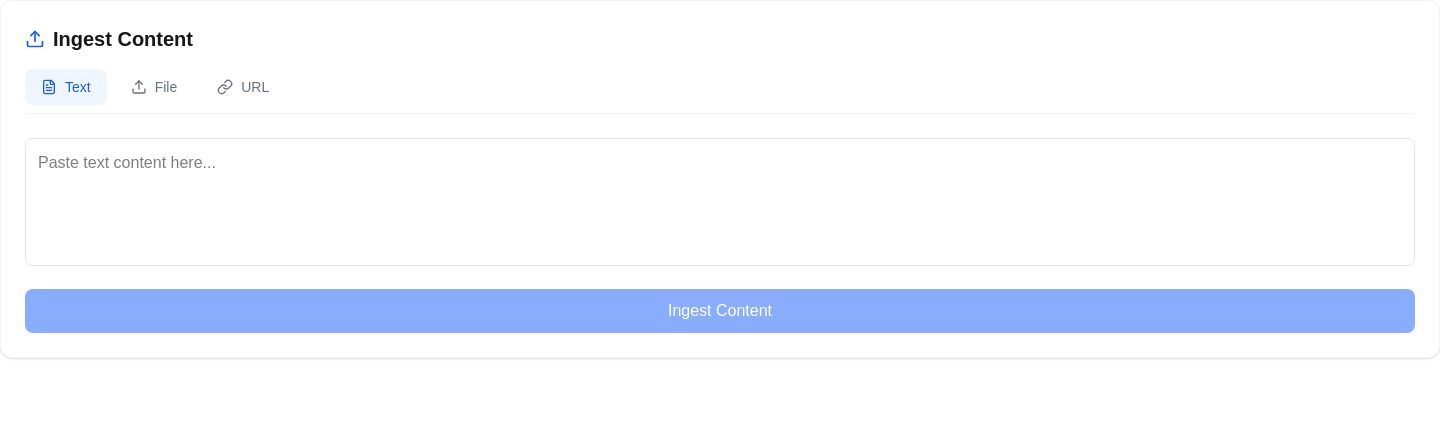
Scenario: IngestForm › submits text ingestion successfully
Type "Test content" into the text box with placeholder "Paste text content here...". click: point(720, 202)
box: [25, 138, 1415, 266]
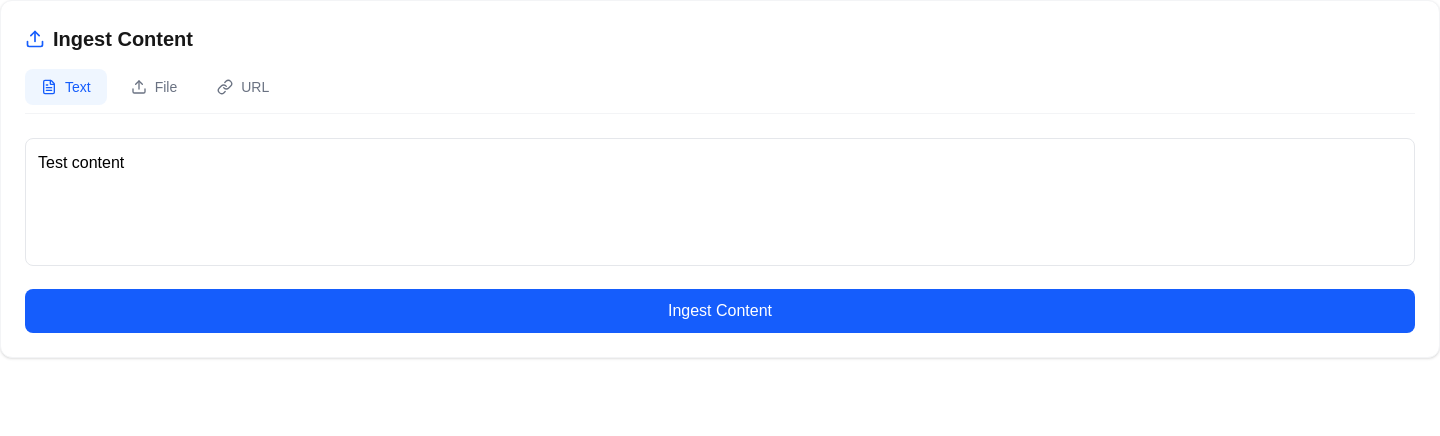
Click the button "Ingest Content". click: point(720, 311)
box: [25, 289, 1415, 333]
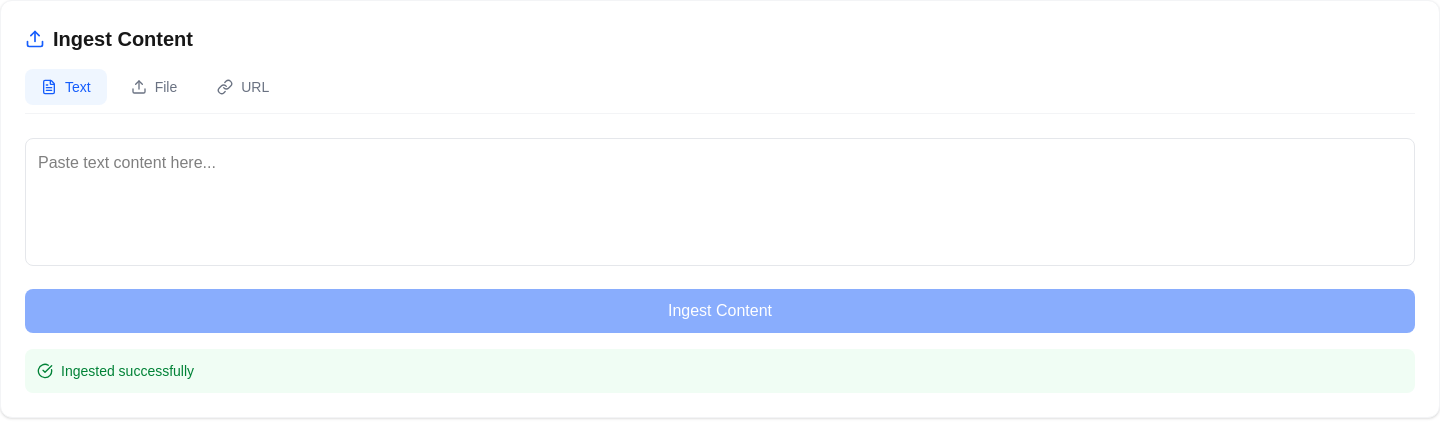
Expected: the text "Ingested successfully" is shown, [25, 349, 1415, 393]
